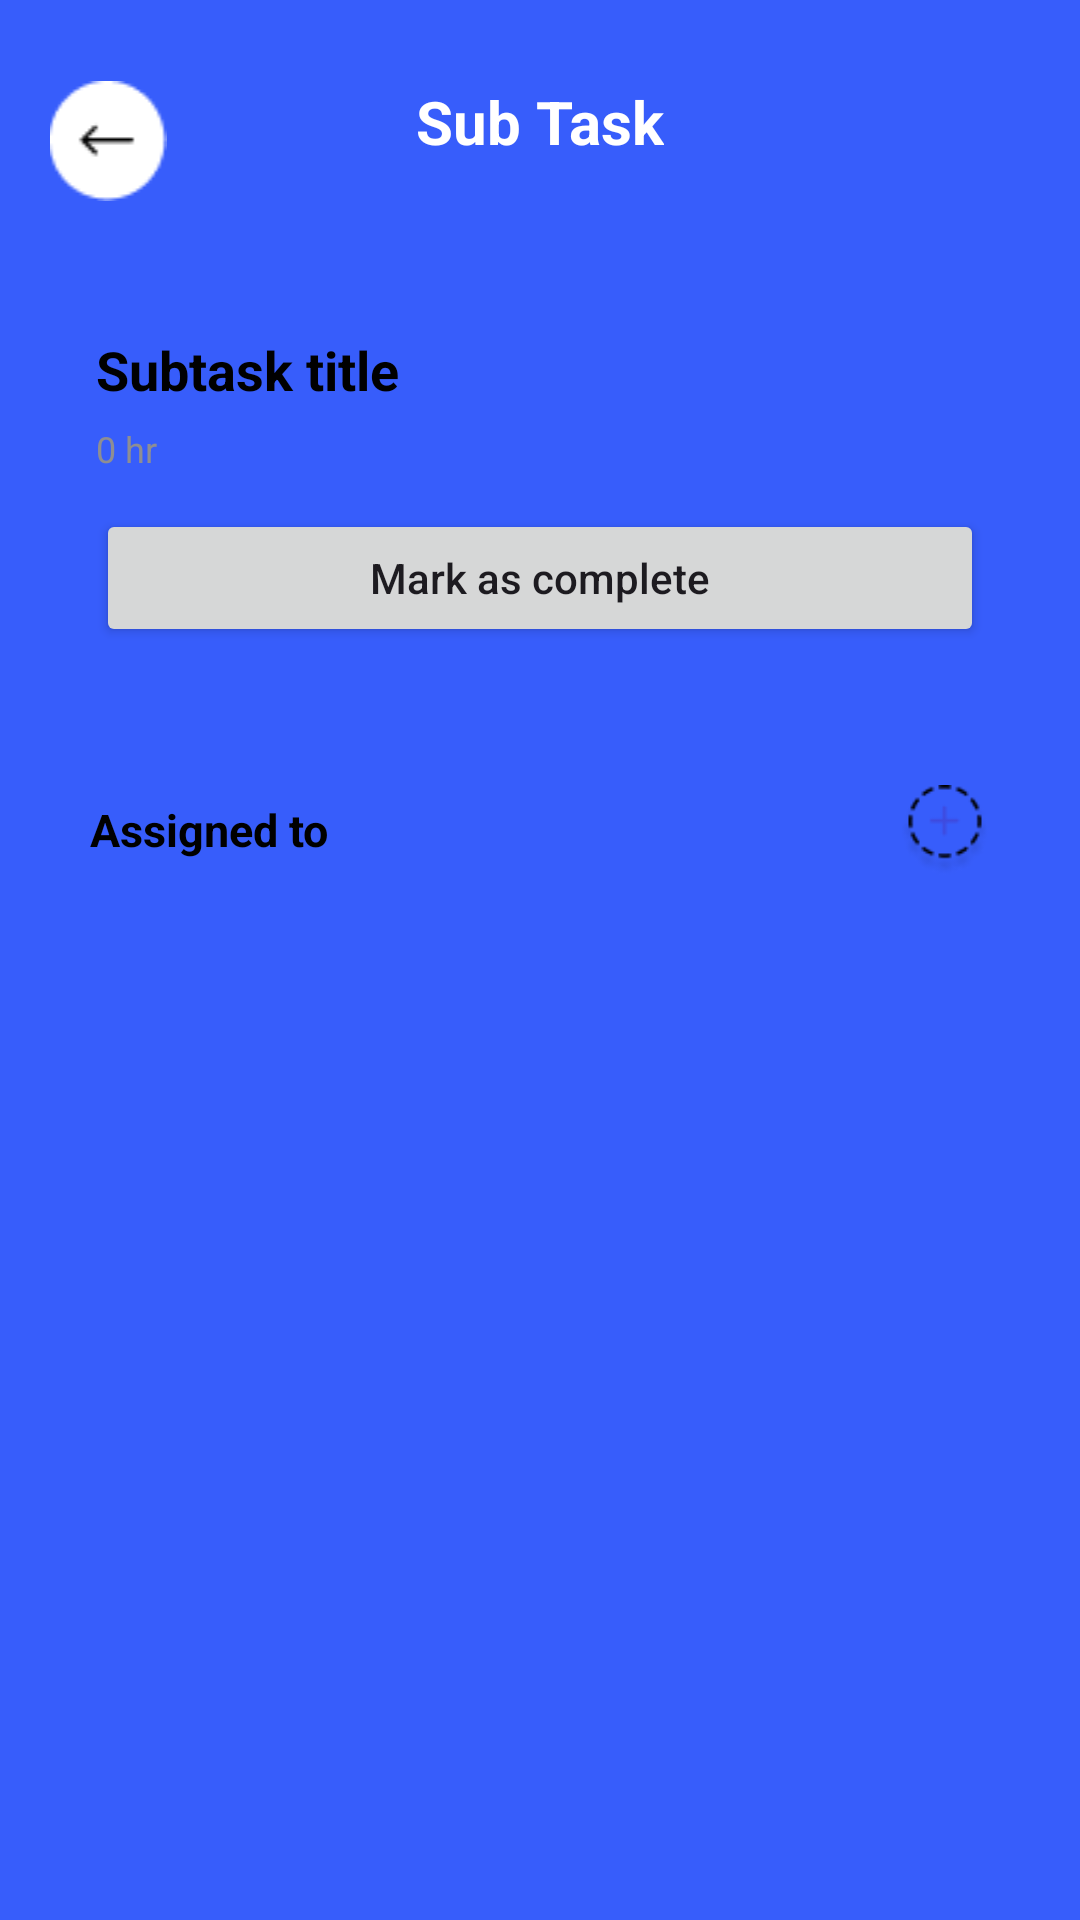

Icon click points for this 1080 × 1920 phone screenshot, format (x=x, y=y):
Add assignee: (x=945, y=822)
back arrow: (x=108, y=141)
